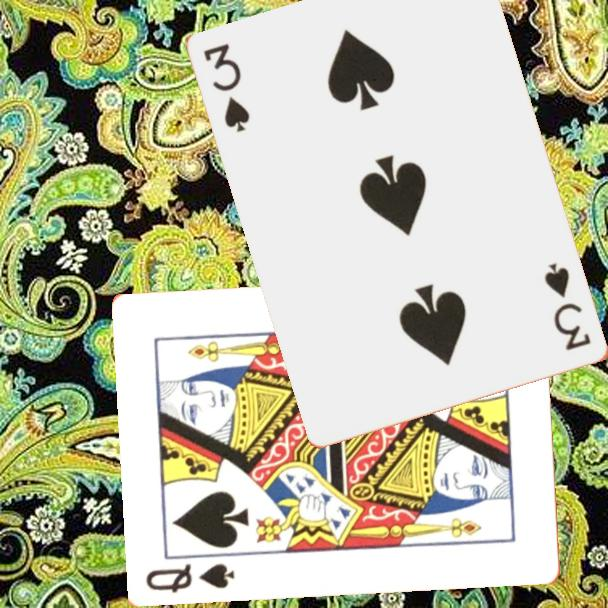s03: (200, 40, 254, 136), (541, 259, 594, 354)
s12: (143, 559, 238, 595)
